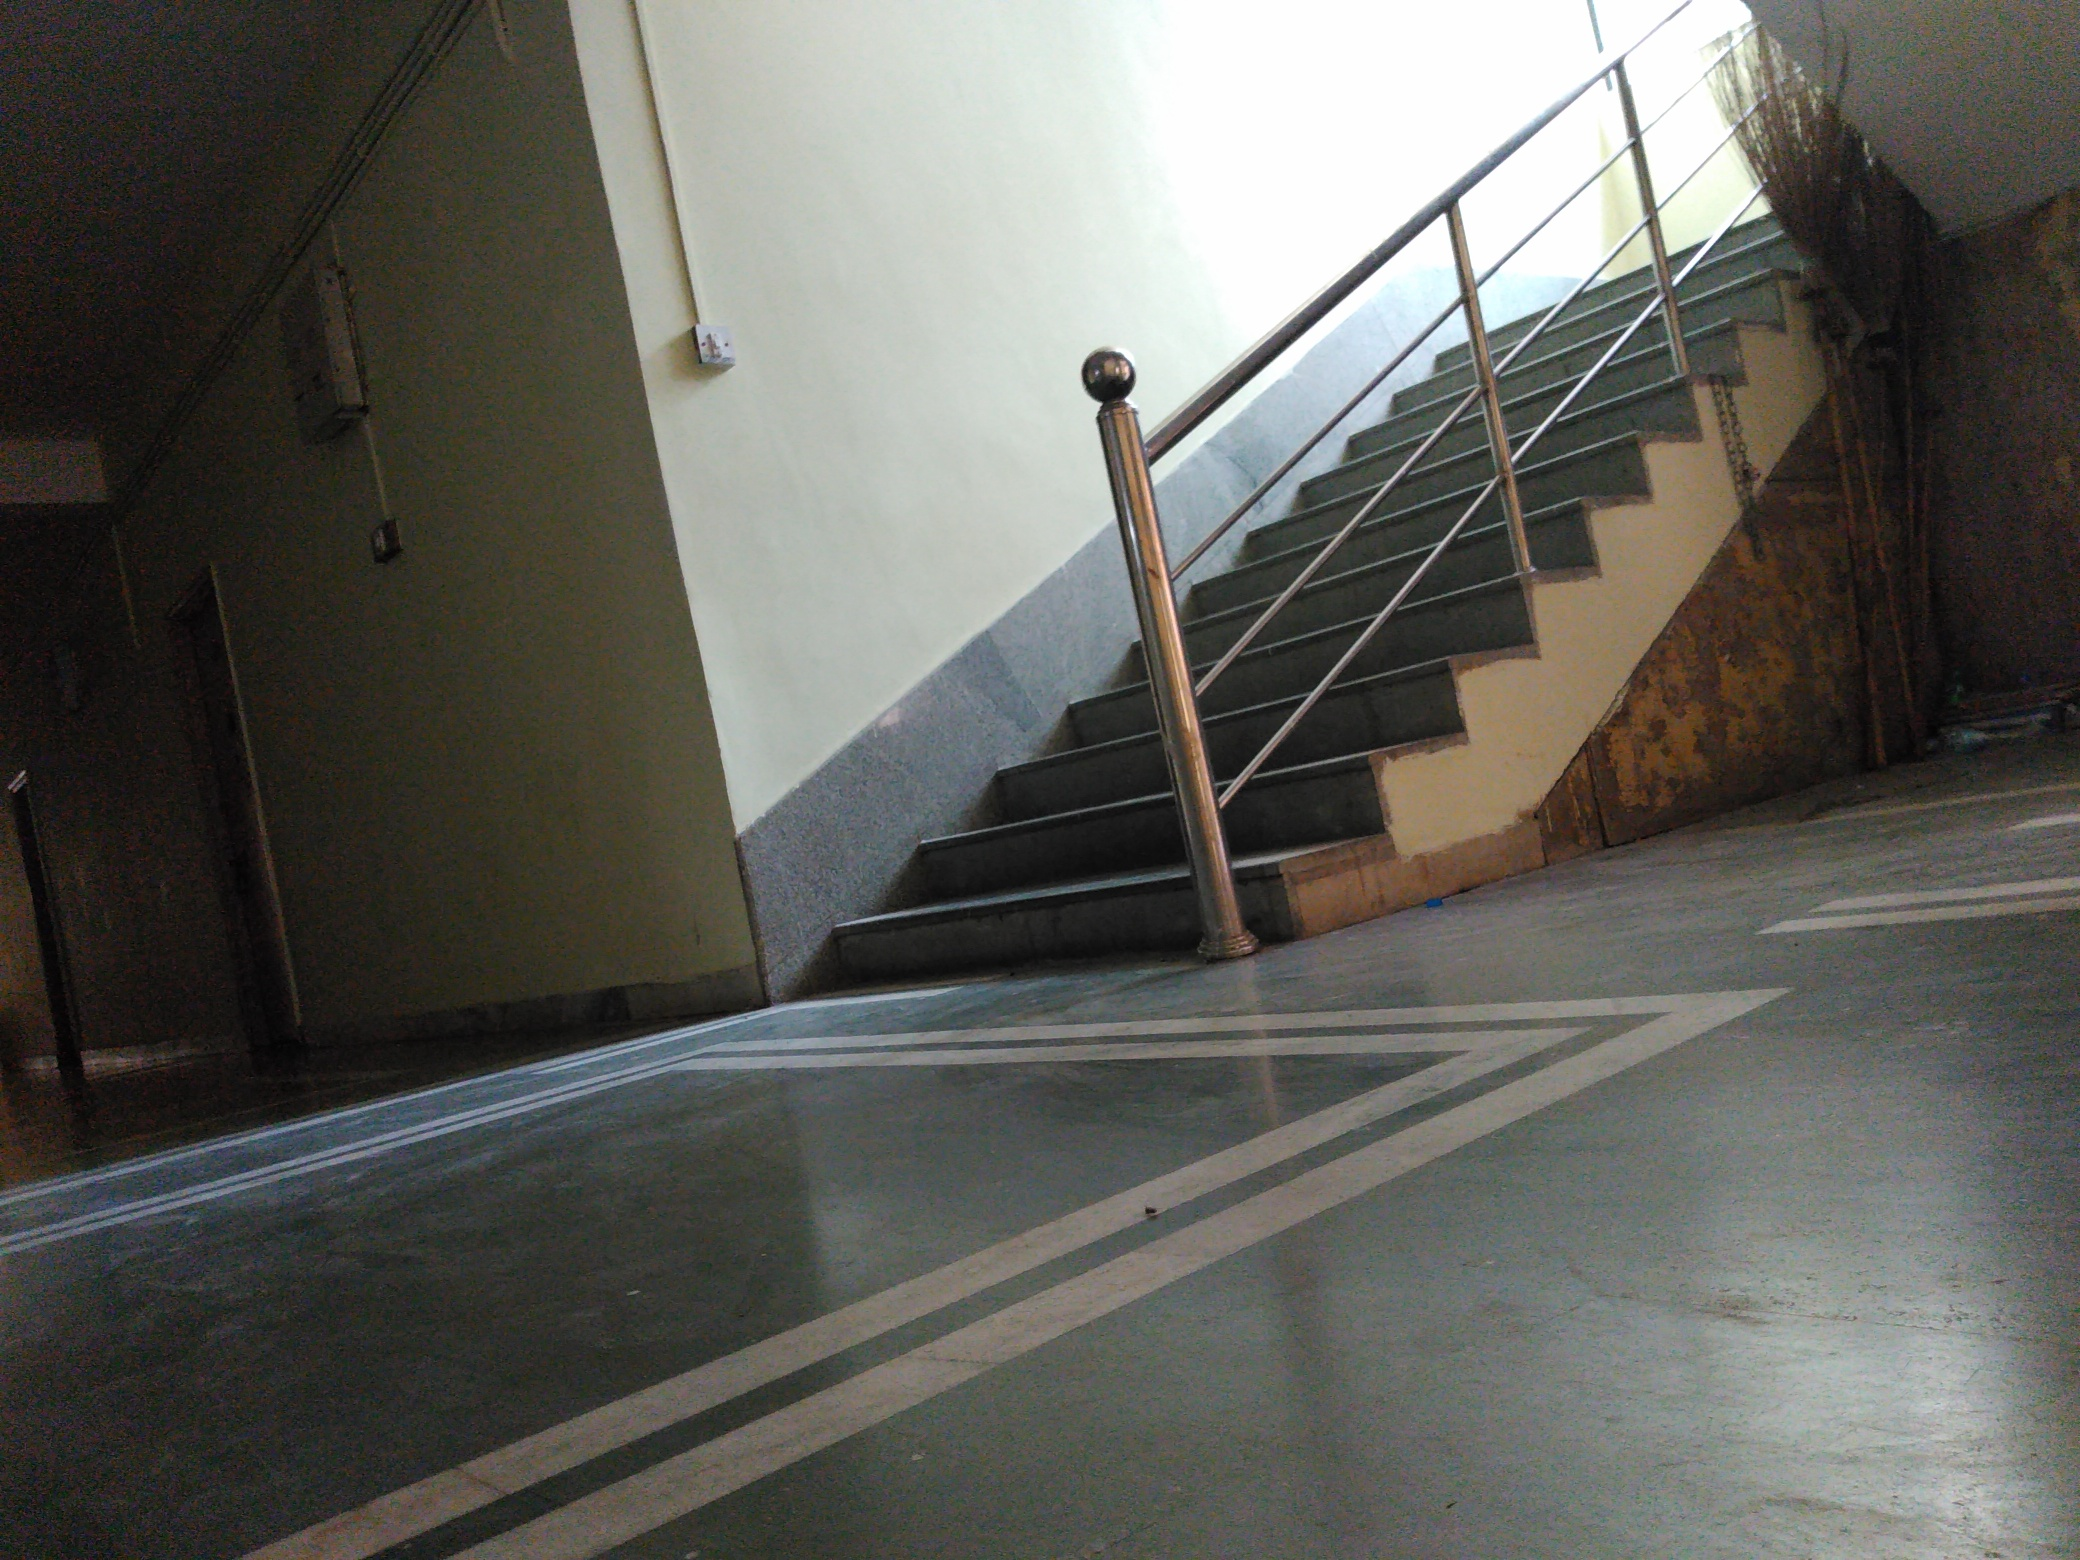stairs_up: (827, 195, 1798, 1009)
